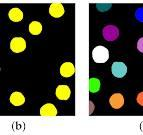cell: (92, 46, 110, 63), (101, 26, 119, 42), (10, 37, 27, 53), (40, 102, 57, 117), (48, 3, 64, 18), (112, 62, 127, 78), (10, 92, 27, 106), (55, 85, 70, 100), (109, 93, 124, 108), (61, 62, 74, 79), (9, 8, 23, 23), (29, 21, 43, 35), (89, 79, 100, 92), (97, 4, 113, 12), (134, 8, 143, 22), (89, 101, 96, 116), (137, 37, 143, 54), (137, 91, 143, 107)
